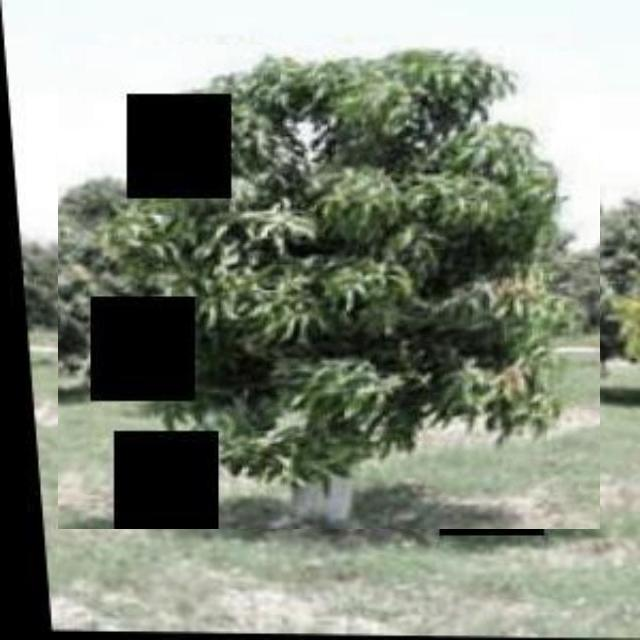tree: (58, 45, 600, 529)
